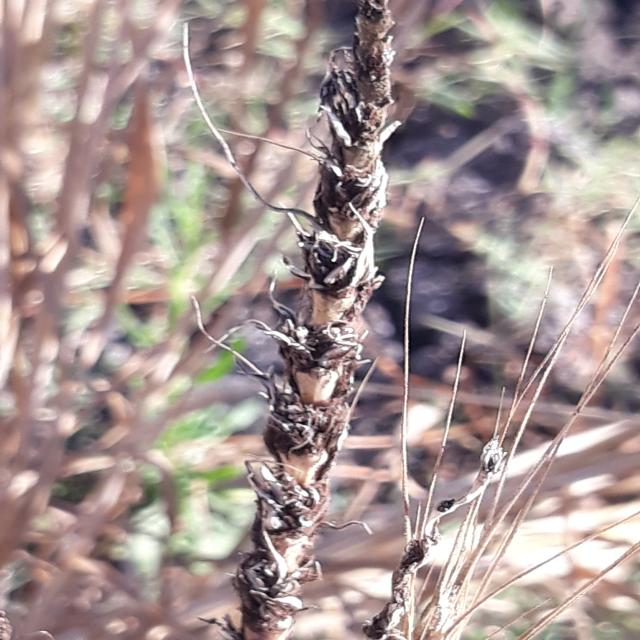loose_charred: (203, 0, 409, 640), (356, 341, 602, 640)
